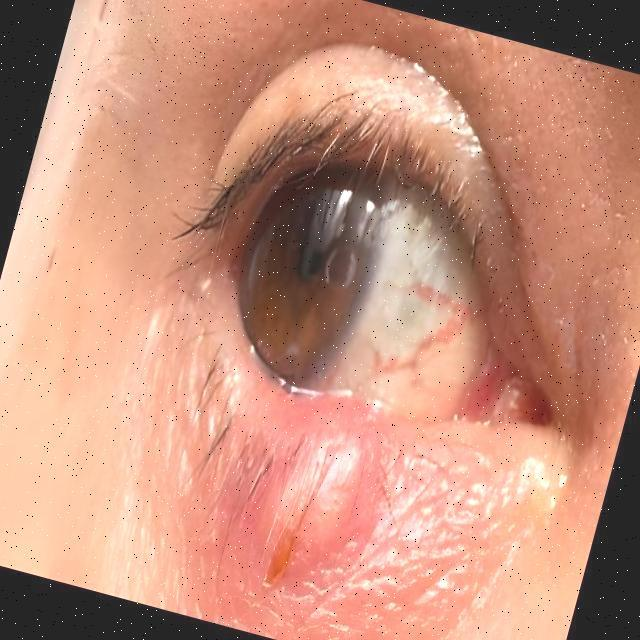Stye: (158, 316, 475, 640)
